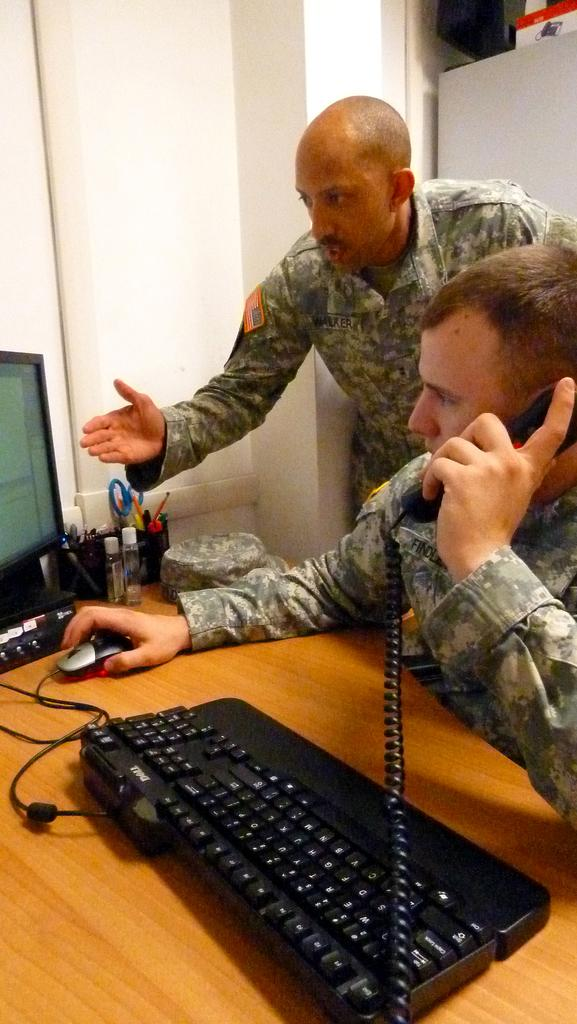Computer-keyboard: (74, 695, 554, 1023)
